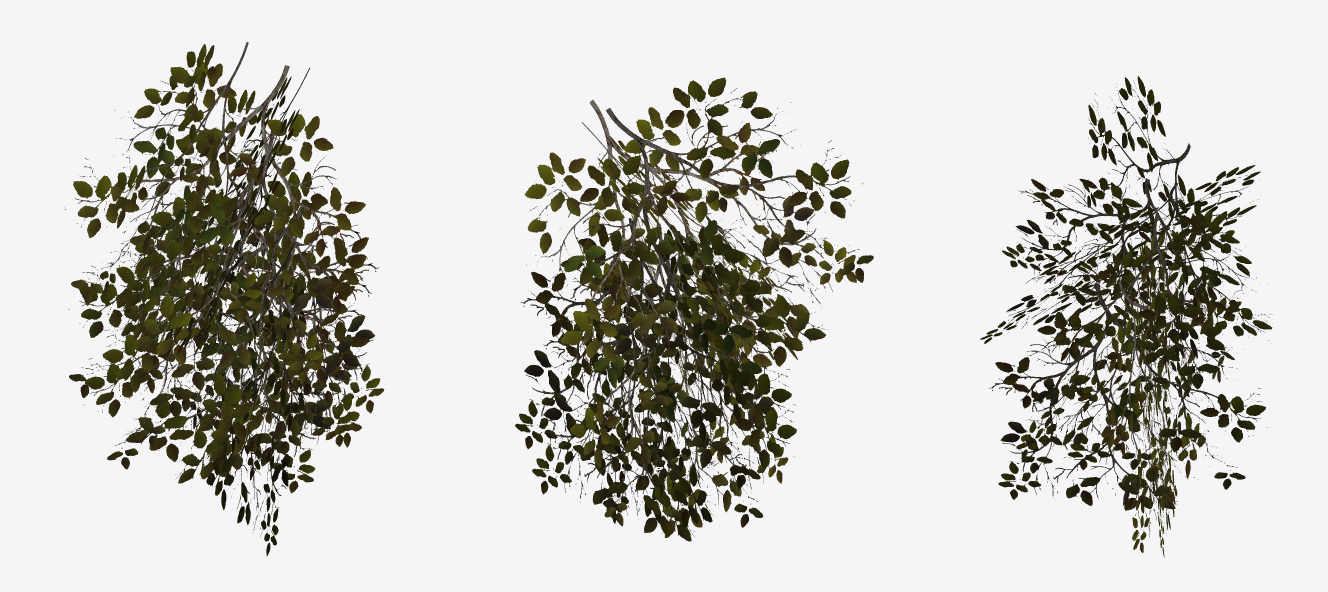
The model's file is rock_plants_003_LOD1.obj.
3 renders of one model, left to right at view 1: azimuth 30°, elevation 25°; view 2: azimuth 150°, elevation 25°; view 3: azimuth 270°, elevation 25°, orthographic. The views are drawn at different scales.
Parts seen in each view (by area): view 1: rock_plants_003_LOD1; view 2: rock_plants_003_LOD1; view 3: rock_plants_003_LOD1.
Boxes of the visible parts, x1,y1,x2,y2 form: rock_plants_003_LOD1: [64, 42, 384, 556]; rock_plants_003_LOD1: [515, 77, 873, 541]; rock_plants_003_LOD1: [980, 76, 1272, 557].
Size of the model in its own units: 382 by 527 by 337.
1 material, 1 textured.
